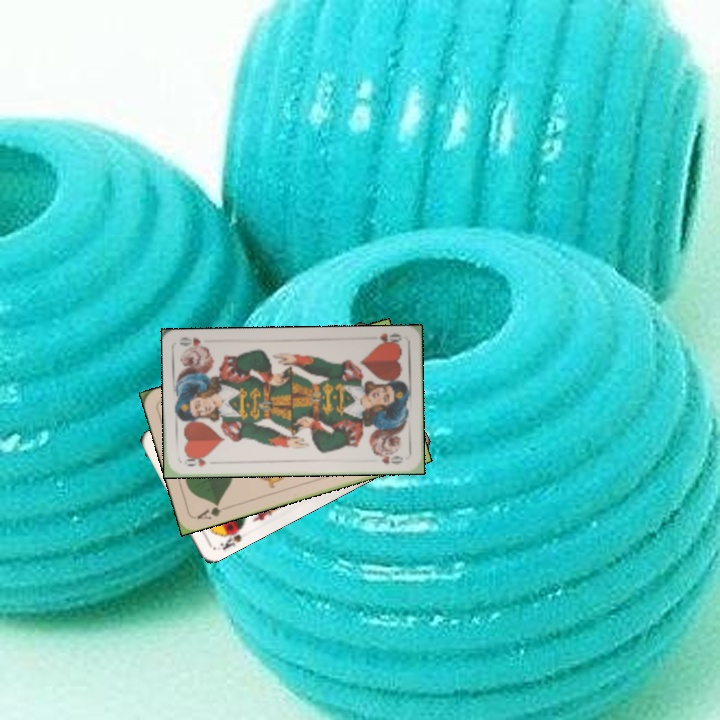GA: (193, 499, 224, 522)
HO: (373, 329, 404, 349), (182, 453, 208, 469)
SK: (216, 523, 244, 553)
